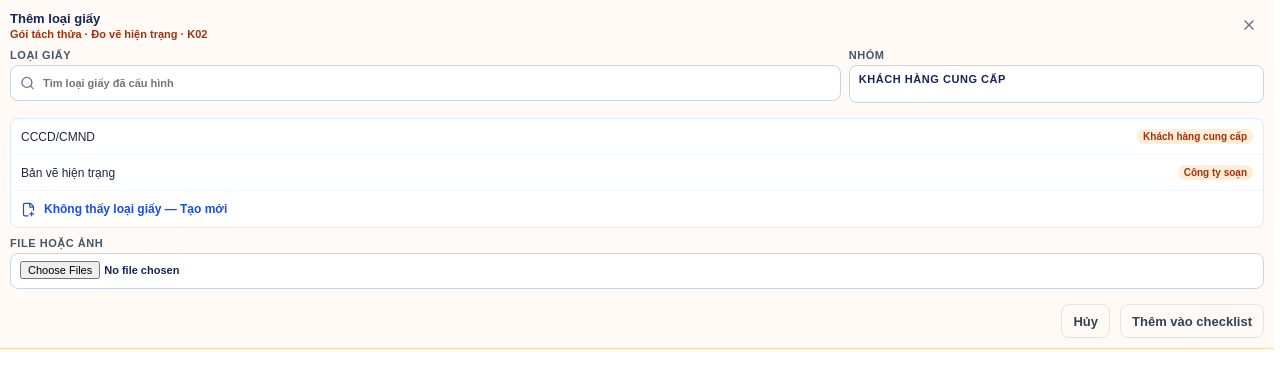
Test: Thêm loại giấy ngay trong checklist › chỉ tải gợi ý khi panel được mount, tìm kiếm và khóa nguồn của mẫu CCCD
This screenshot has width=1280, height=366.
expect the text "CCCD/CMND" is shown: met, box [21, 130, 95, 144]
expect the text "Gói tách thửa · Đo vẽ hiện trạng · K02" is shown: met, box [10, 28, 207, 40]
Type "CCCD" into the dropdown labelled "Loại giấy". click: (425, 83)
box: [10, 65, 841, 101]
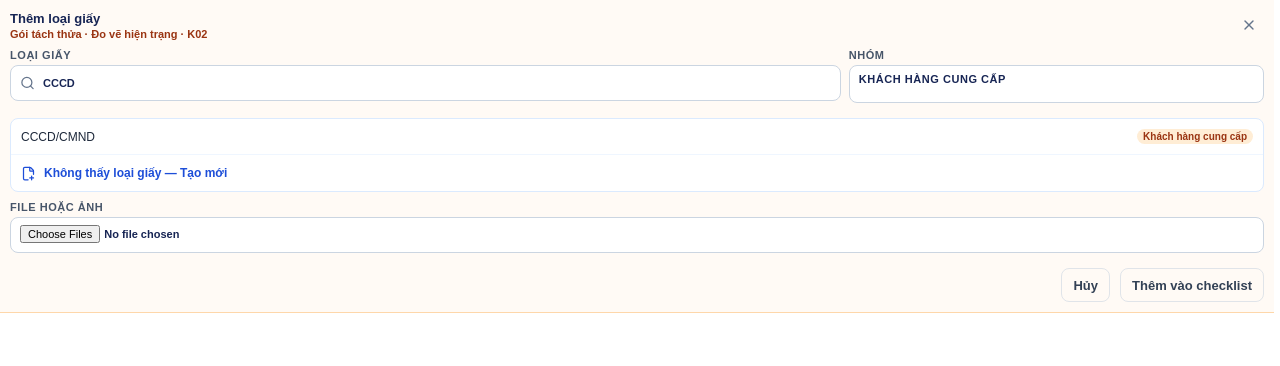
expect the option "Bản vẽ hiện trạng" is gone: met
Click the option "CCCD/CMND Khách hàng cung cấp". click: (58, 136)
box: [11, 119, 1263, 155]
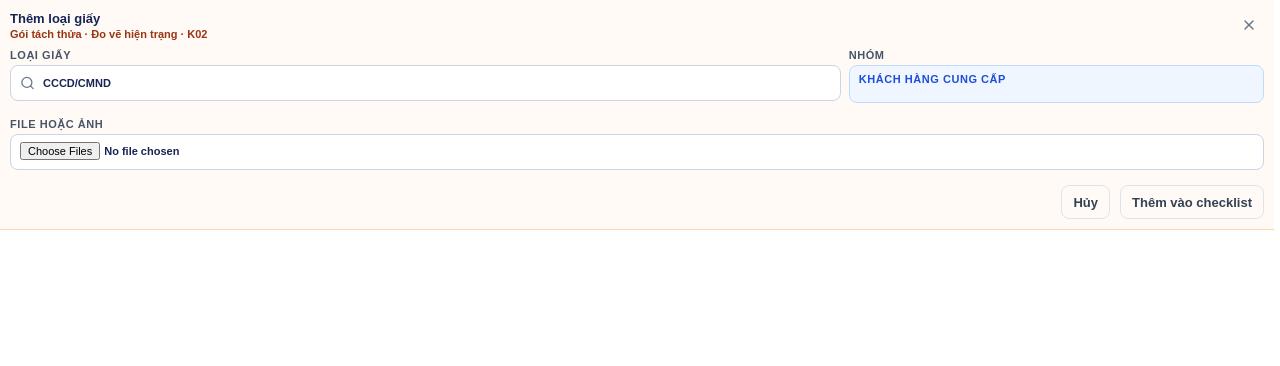
expect the dropdown labelled "Nhóm" shows "Khách hàng cung cấp": met, box [849, 65, 1264, 103]
expect the dropdown labelled "Nhóm" is disabled: met, box [849, 65, 1264, 103]
